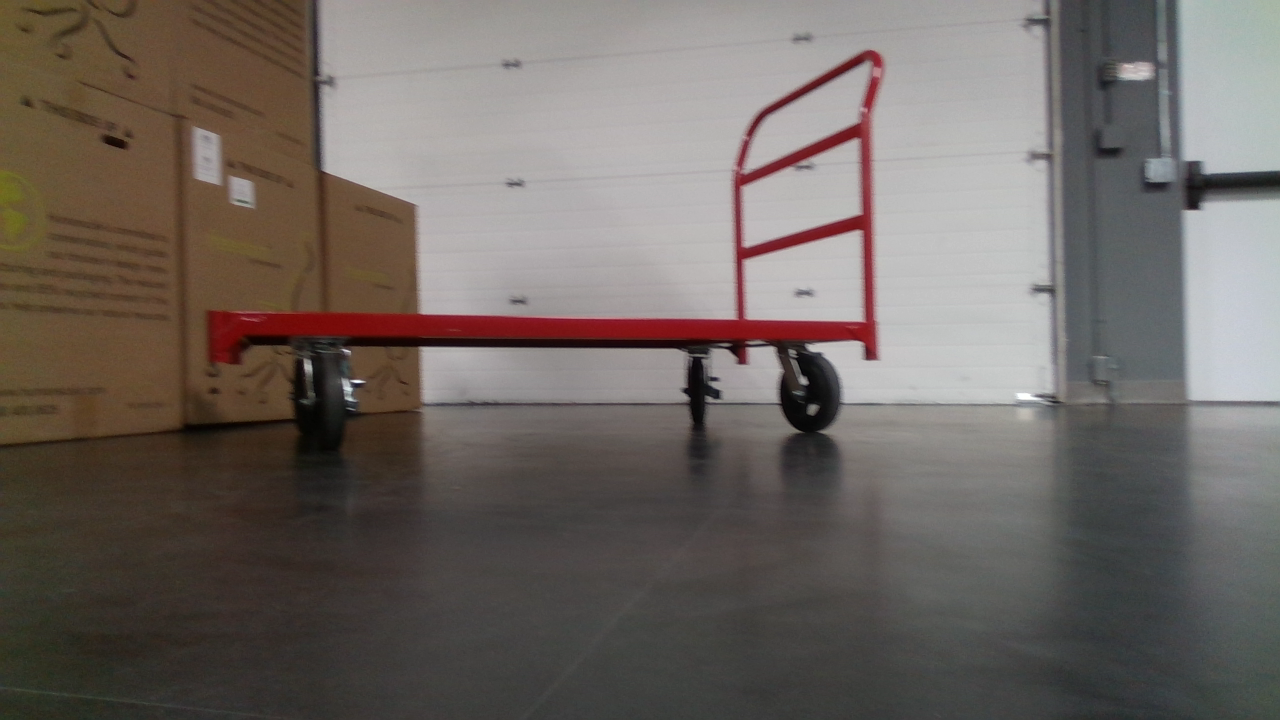Dolly: (203, 45, 889, 456)
Wheel: (284, 338, 366, 454), (774, 346, 843, 437), (676, 348, 725, 437)
